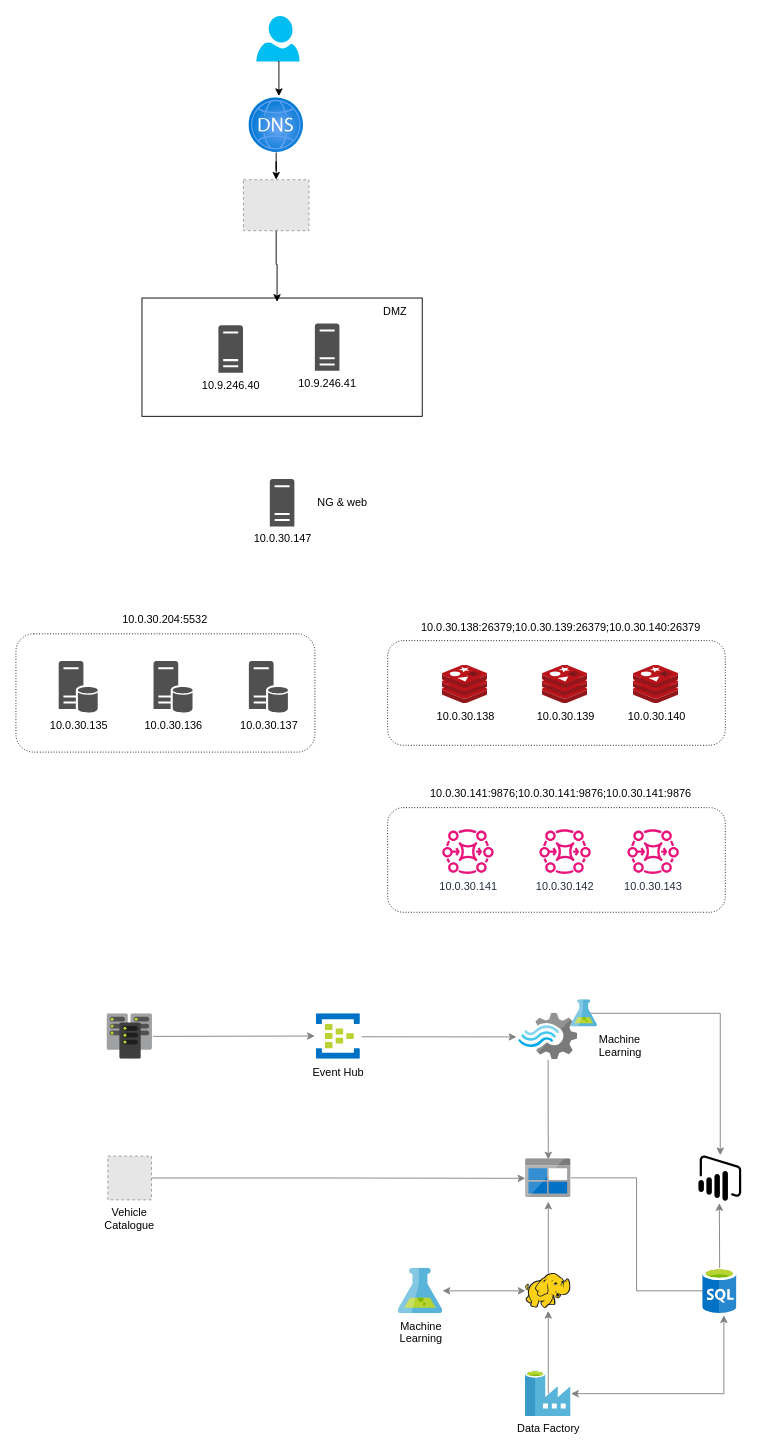
This 763x1451 diagram has some shape labels left out. Grey dashed boxes stand in for pictures. Each missing label, with the box of its shape:
Diagrnostic Events: (106, 1013, 152, 1059)
Geography Data: (525, 1158, 571, 1197)
HDInsight: (525, 1273, 571, 1308)
Power BI: (698, 1155, 741, 1200)
SQL Data Warehouse: (702, 1268, 736, 1313)
Stream Analytics: (518, 1013, 577, 1059)
